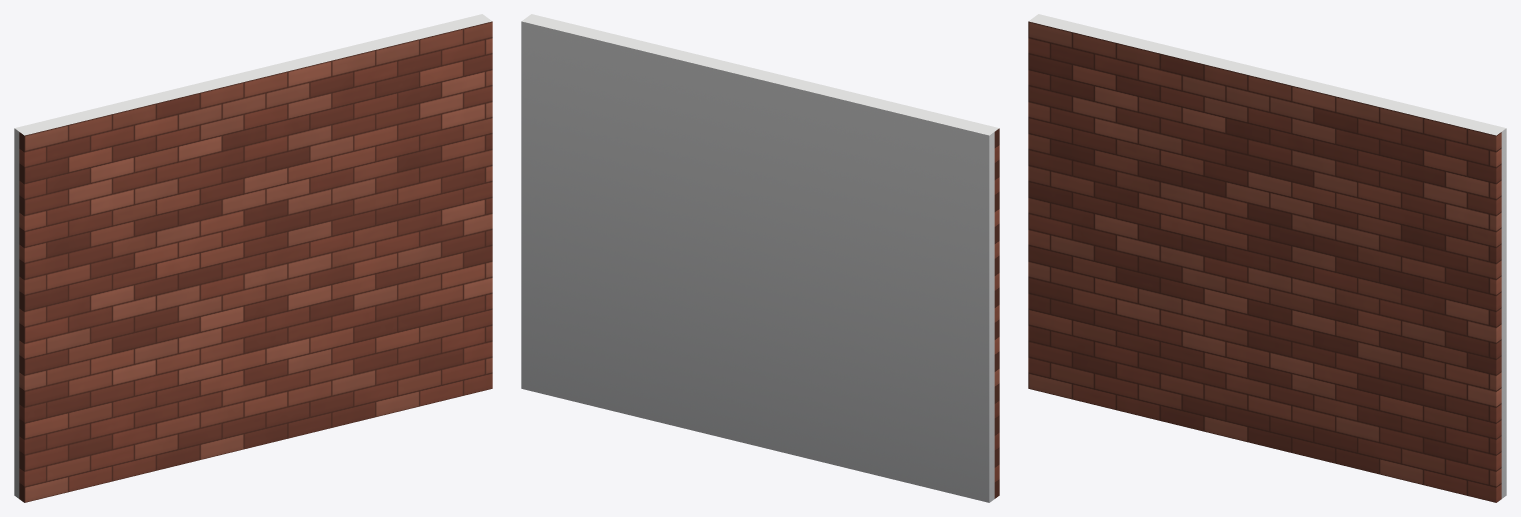
File: parede_4m.glb
3 renders of one model, left to right at view 1: azimuth 30°, elevation 25°; view 2: azimuth 150°, elevation 25°; view 3: azimuth 330°, elevation 25°, orthographic.
Parts seen in each view (by area): view 1: parede_4m; view 2: parede_4m; view 3: parede_4m.
Part boxes in pixels (x1=…): parede_4m: x1=14, y1=14, x2=492, y2=502; parede_4m: x1=521, y1=14, x2=999, y2=502; parede_4m: x1=1028, y1=14, x2=1506, y2=502.
Bounding box in the file's own units: 4 × 3 × 0.15.
Materials: 3 (2 with a texture image).
